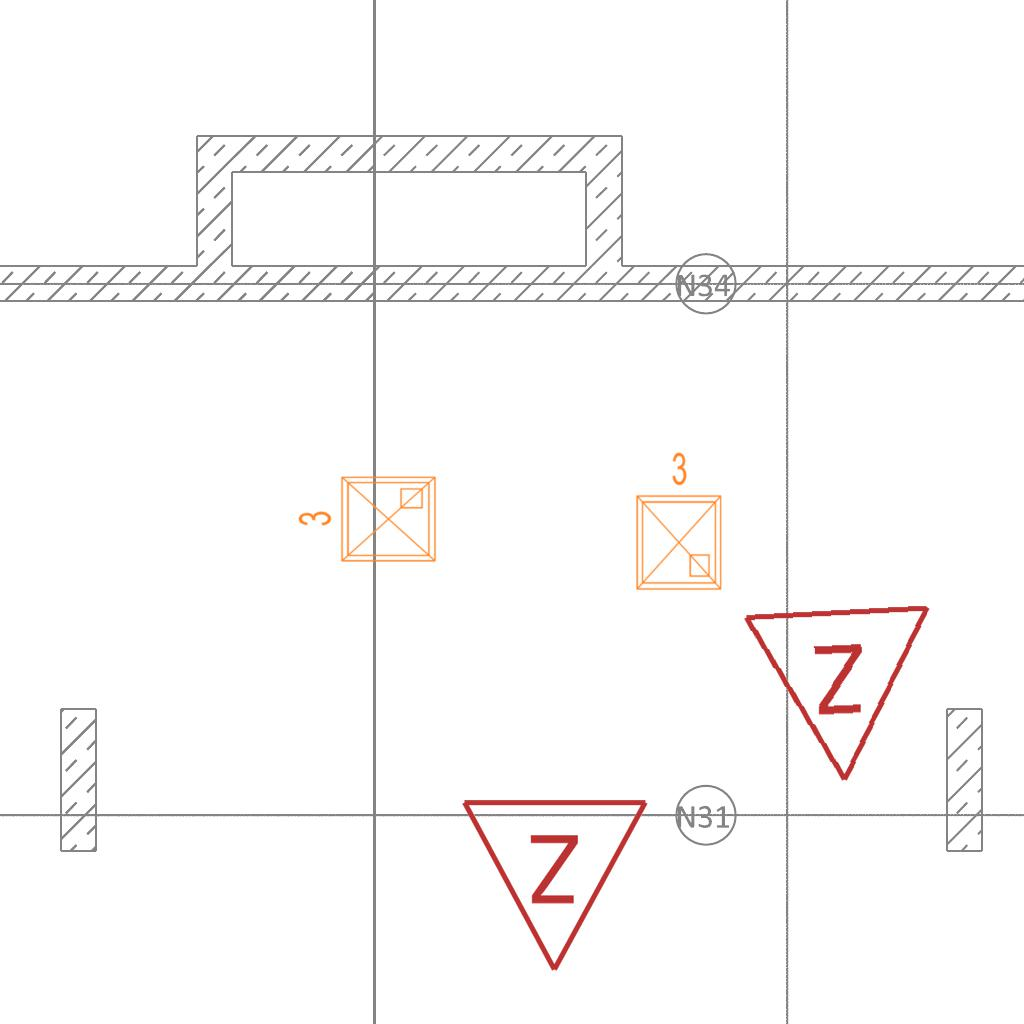Einbaudownlights_LED_Konferenzraeume: (293, 469, 443, 573), (625, 447, 729, 597)
Zimmersignalleuchte: (739, 590, 947, 800), (459, 785, 655, 985)
